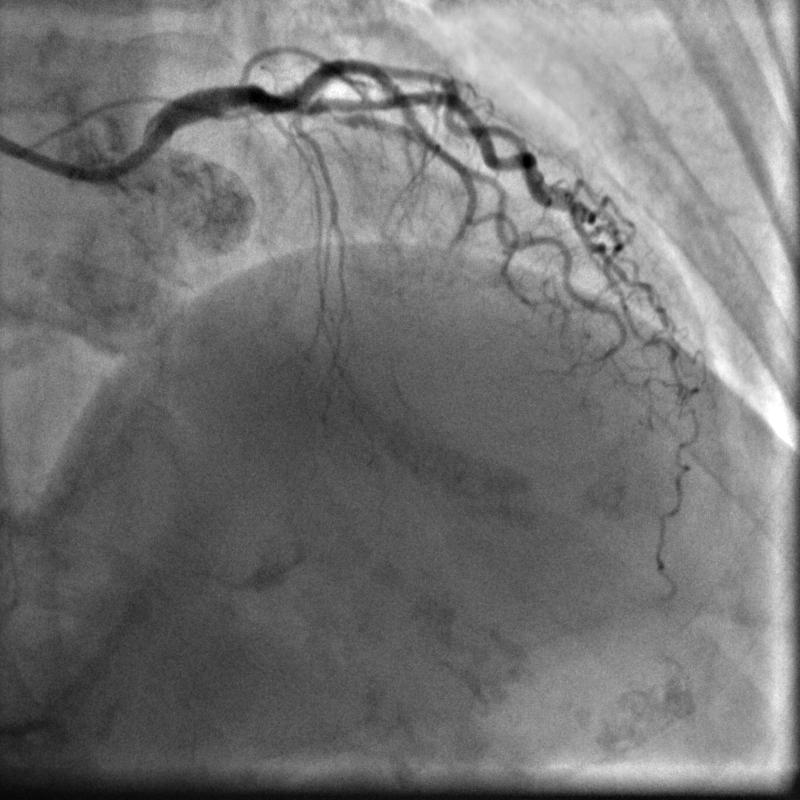Stenosis: (323, 106, 353, 123)
